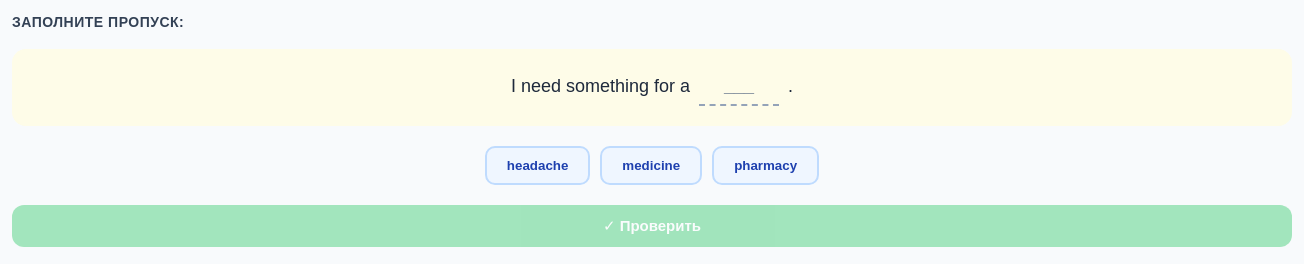
Test case: FillBlankTask › кнопка "Проверить" активируется после выбора
Click the button with class "option-btn" showing "headache" at (538, 166), box [485,146,590,185]
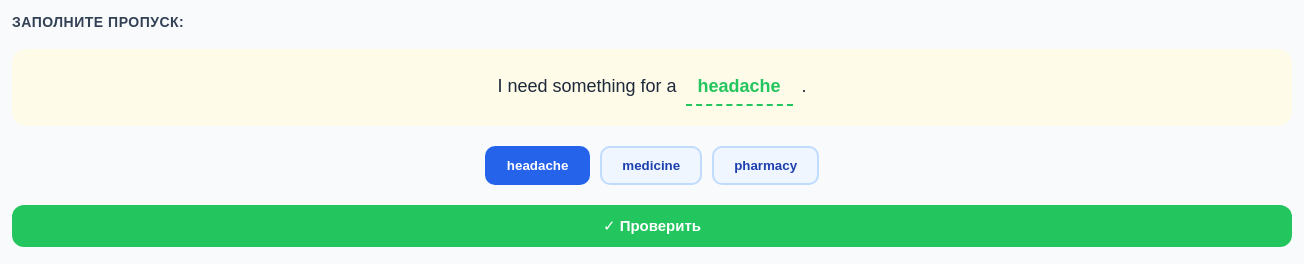
Expected: the button with class "task__check-btn" is enabled, [12,205,1292,247]
